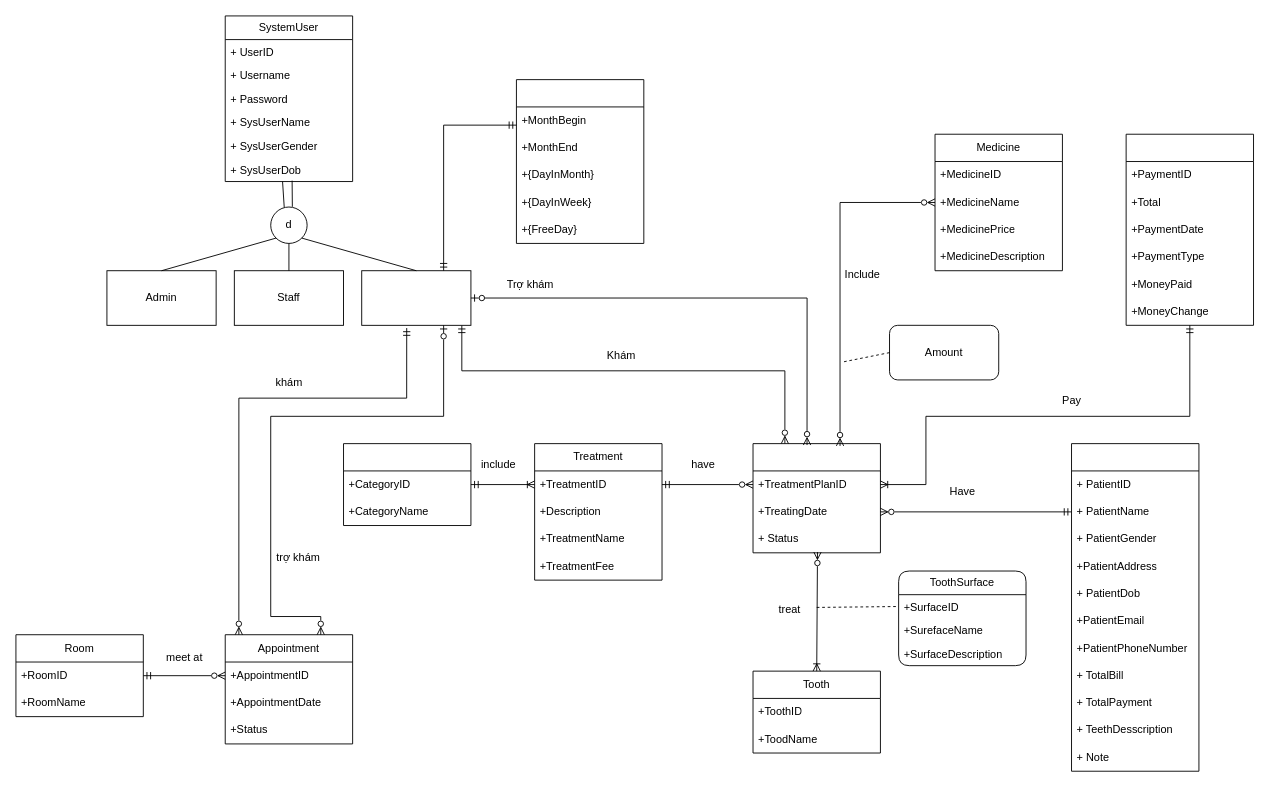
This 1269x787 diagram has some shape labels left out. Here are the shapes that lost their labels. From the top down, the box of each, then its label:
(516, 79, 644, 243): WorkingCalendar
(1125, 133, 1254, 325): PaymentRecord
(361, 270, 471, 325): Dentist
(343, 443, 471, 526): TreatmentCategory
(752, 443, 880, 553): Trearment Plan
(1071, 443, 1199, 771): PatientProfile
